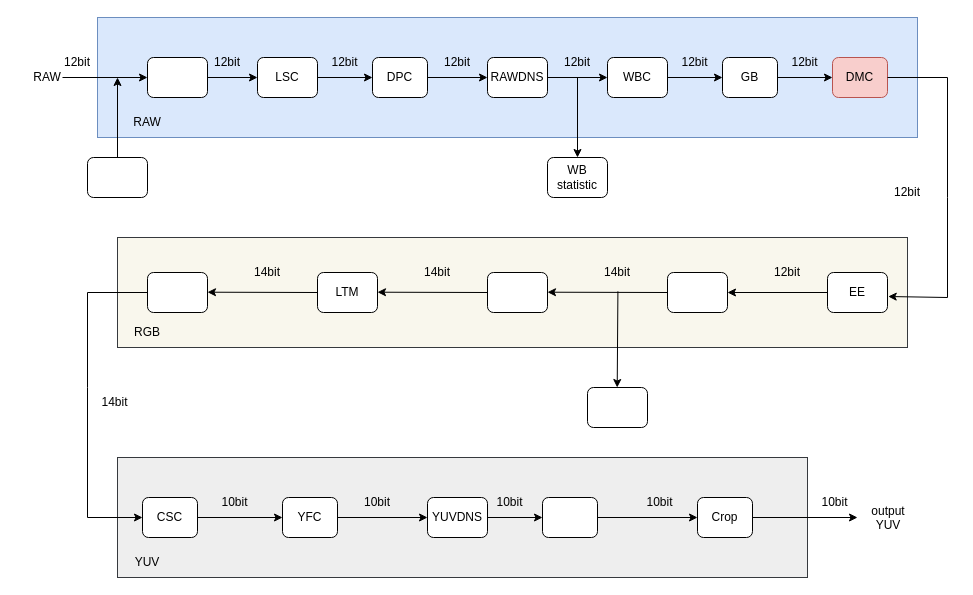
This 973x595 diagram has some shape labels left out. The centre of each missing label's shape, as x and y in pixels:
"CAC" belongs at point 177,292.
"CMC" belongs at point 697,292.
"Dgain" belongs at point 177,77.
"GTM" belongs at point 517,292.
"histogram statistic" belongs at point 617,407.
"Scale down" belongs at point 570,517.
"TPG" belongs at point 117,177.
